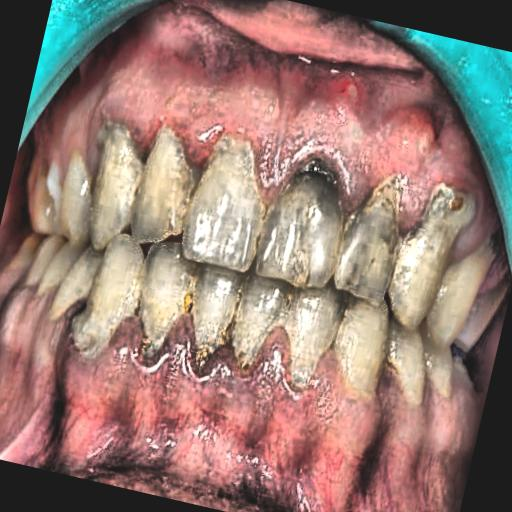Gingivitis: (18, 282, 422, 494), (58, 16, 300, 190), (280, 54, 490, 232)
